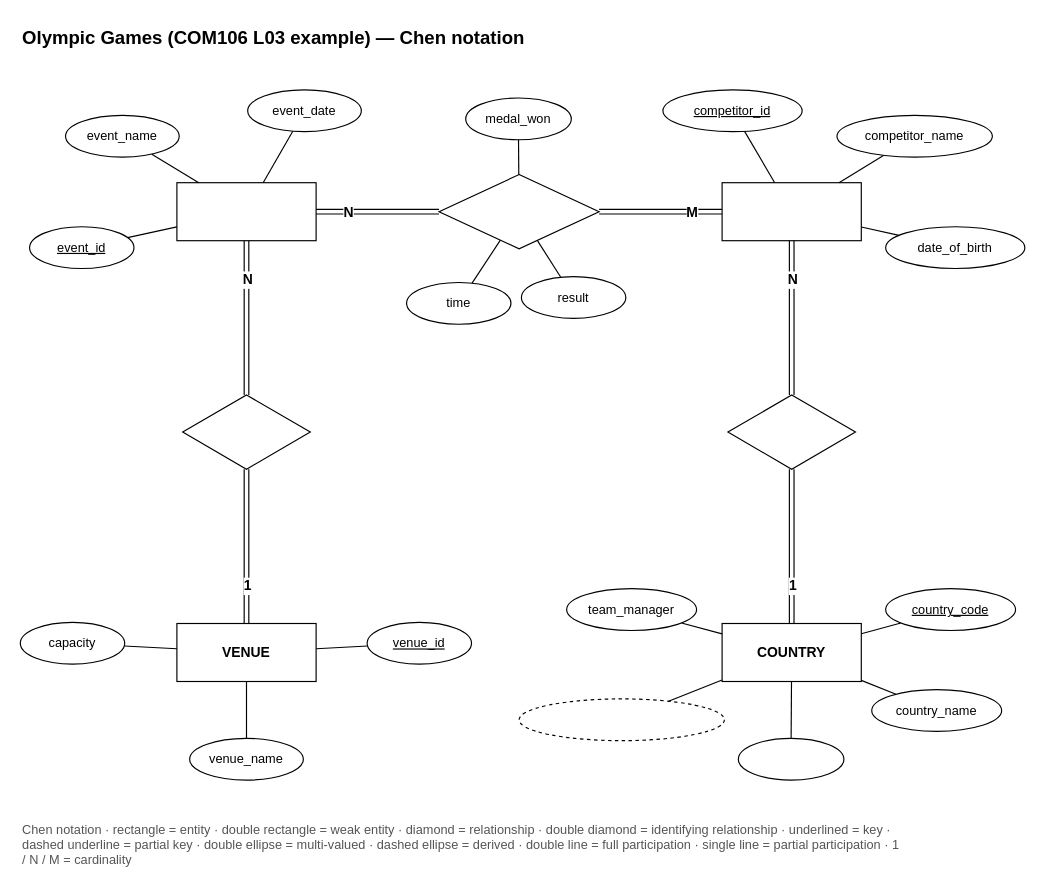
Some shapes in this 1045 by 892 pixel diagram are drawn without their labels. The box of each missing label's shape, as (x1, y1, x2, y2) in pixels:
Competes_in: (438, 173, 599, 249)
COMPETITOR: (721, 182, 861, 241)
continent: (737, 737, 844, 780)
EVENT: (176, 182, 316, 241)
Holds: (182, 394, 310, 469)
number_of_competitors: (518, 698, 724, 741)
Sends: (727, 394, 855, 469)
